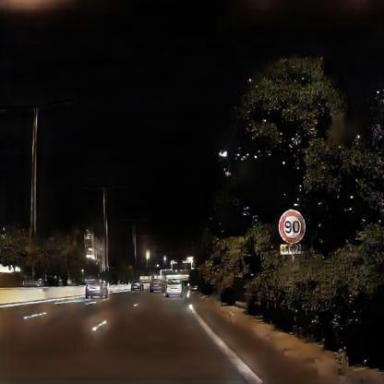Speed_limit_90: (280, 210, 307, 242)
